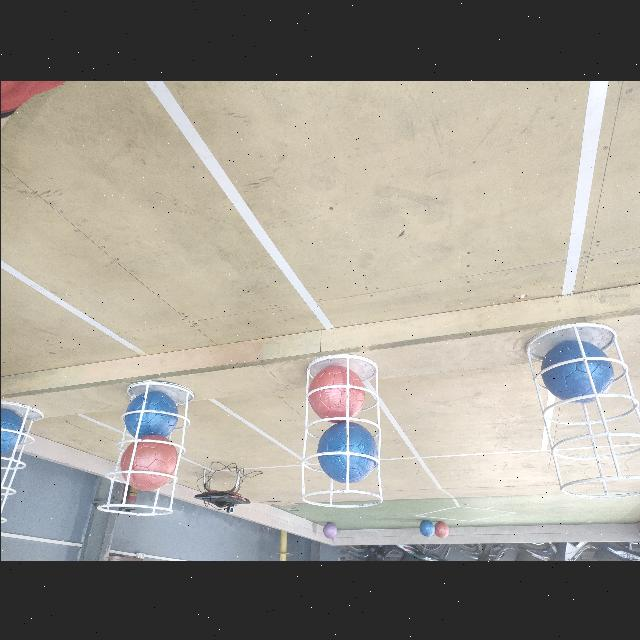B: (540, 340, 614, 402), (316, 421, 378, 484), (124, 392, 176, 440), (0, 406, 22, 454), (419, 518, 433, 536)
R: (119, 434, 177, 491), (306, 366, 364, 422), (434, 520, 448, 538)
